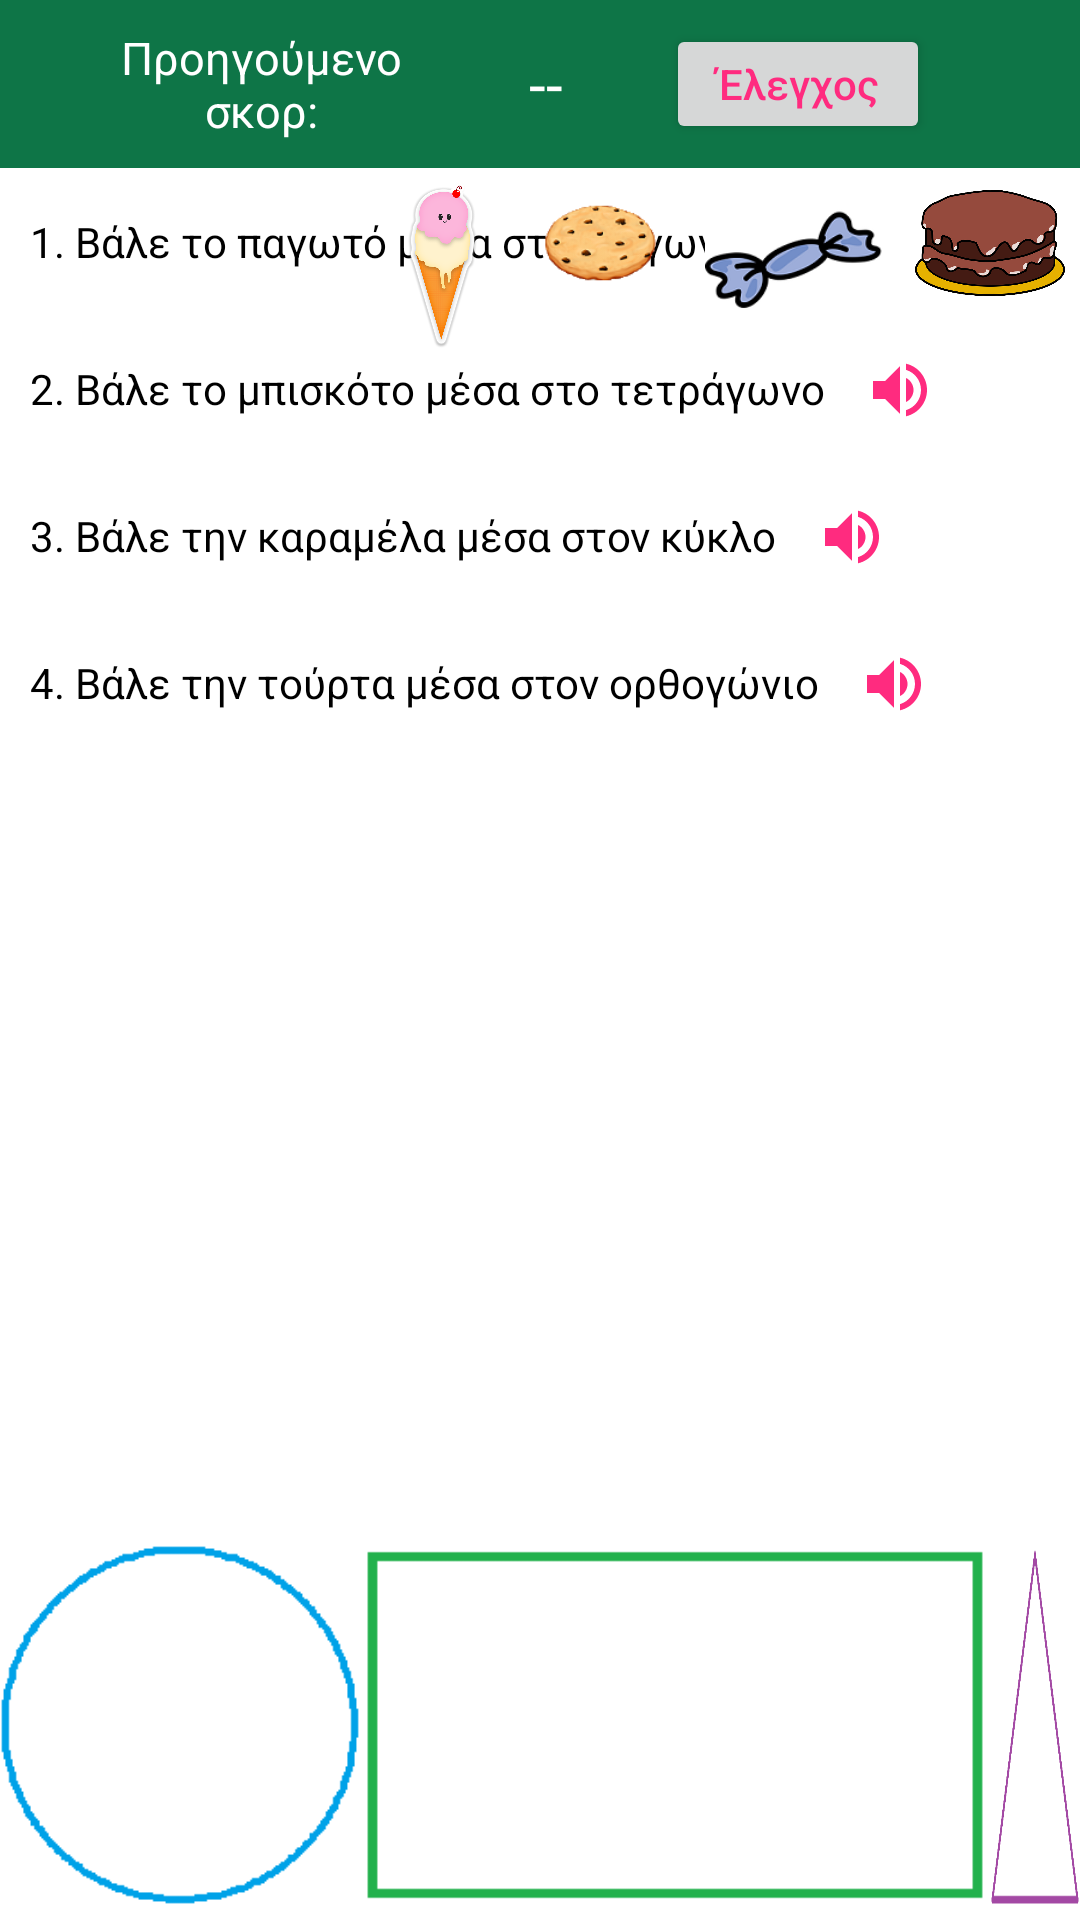

Screen size 1080px x 1920px. Icon name, then its center in pixels as (x=x, y=y):
birthday cake: (x=990, y=243)
cookie: (x=594, y=243)
drag triangle: (x=1035, y=1727)
ice cream: (x=446, y=265)
